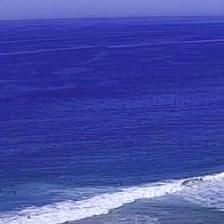surfer: (66, 177, 72, 181), (134, 159, 139, 163), (9, 184, 14, 187), (14, 191, 17, 195), (28, 215, 31, 219), (118, 161, 122, 164)
